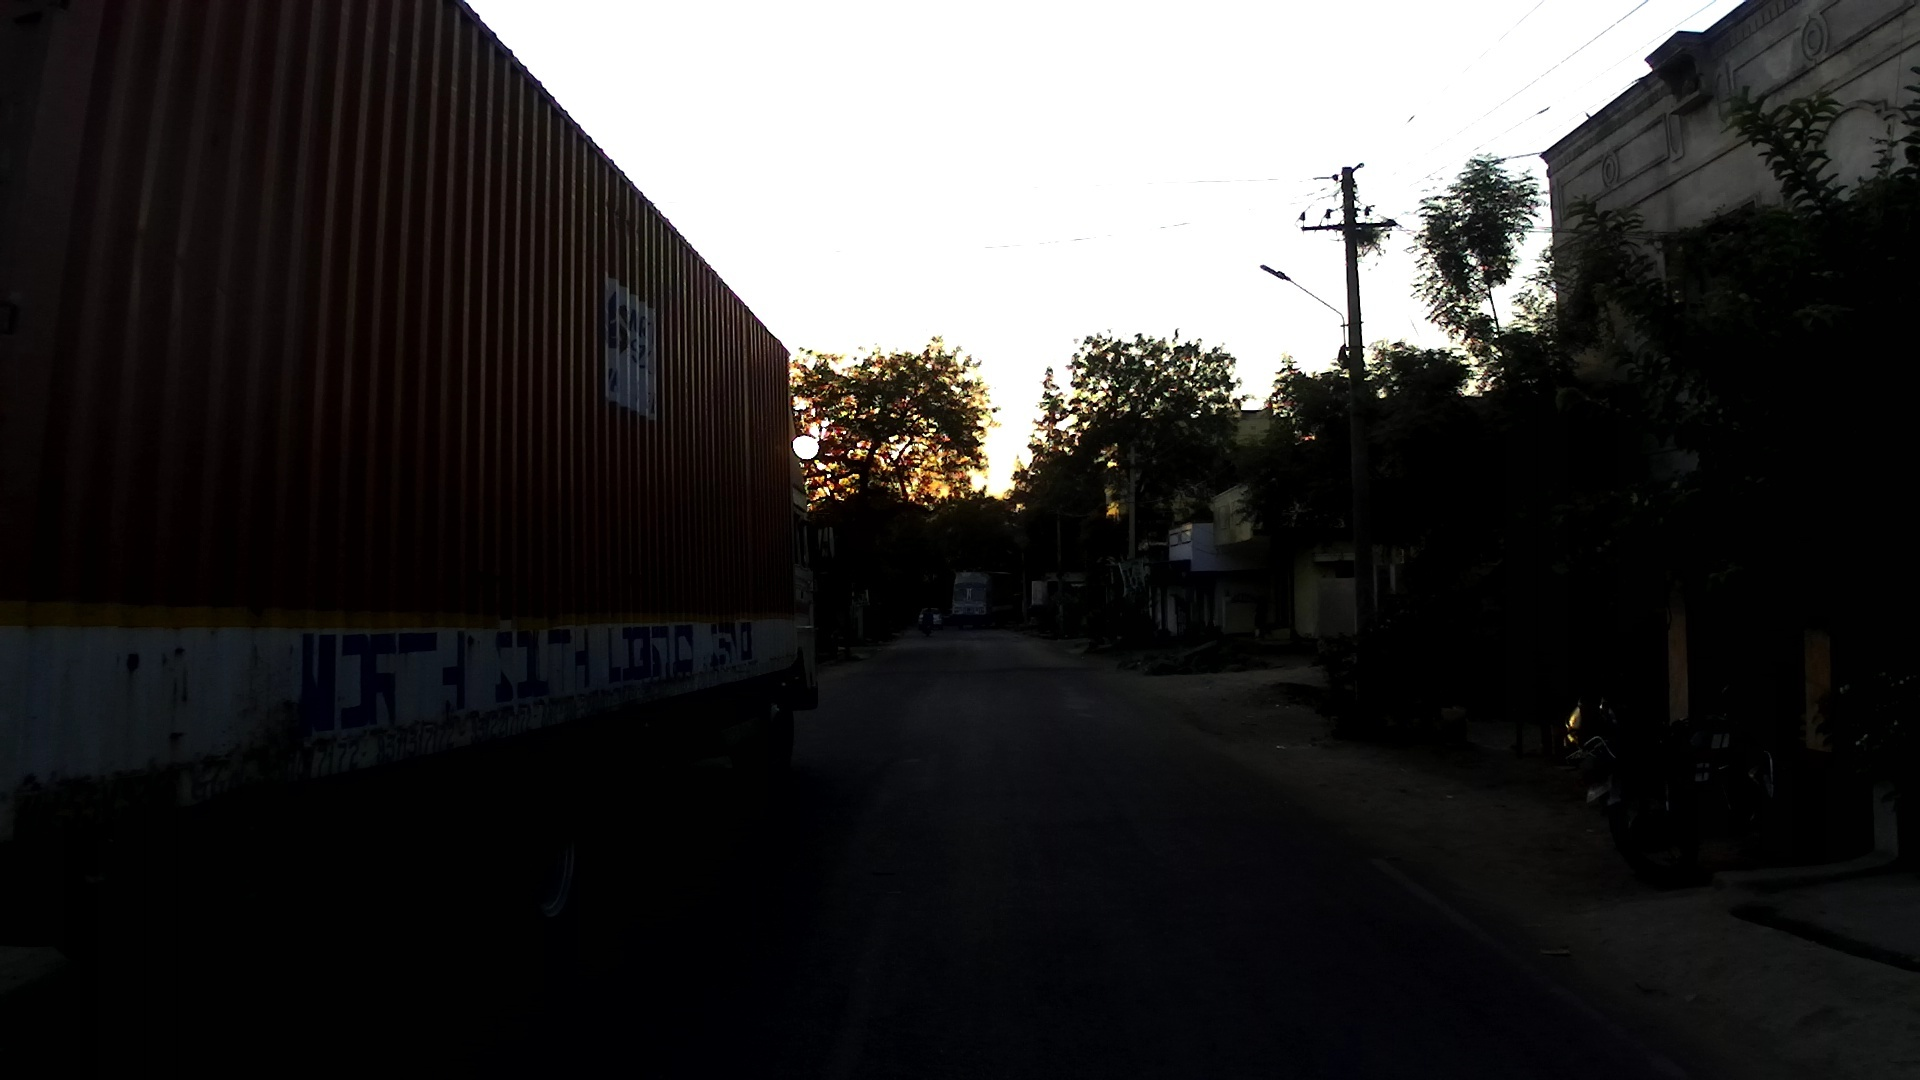car: (917, 610, 947, 630)
motorcycle: (1559, 697, 1828, 885), (921, 616, 936, 640)
rider: (919, 610, 936, 630)
truck: (1, 1, 833, 1080), (949, 574, 994, 635)
